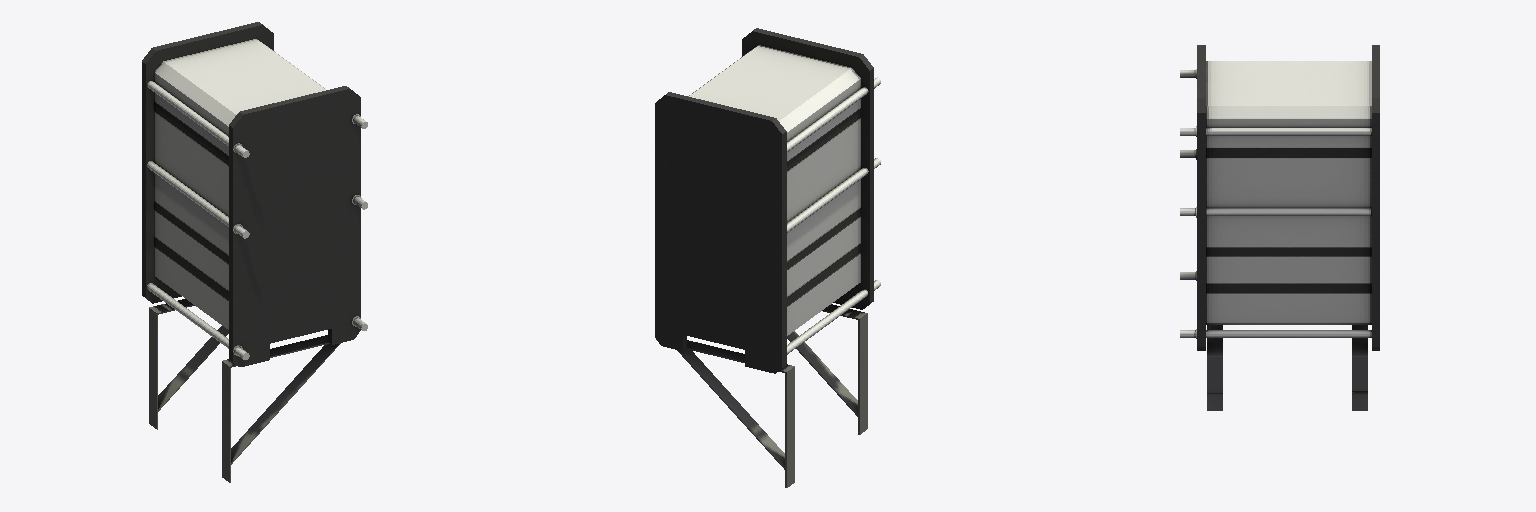
3 renders of one model, left to right at view 1: azimuth 30°, elevation 25°; view 2: azimuth 150°, elevation 25°; view 3: azimuth 270°, elevation 25°, orthographic.
Visible parts, largest first — view 1: Line041; view 2: Line041; view 3: Line041.
Boxes of the visible parts, x1,y1,x2,y2 form: Line041: [142, 22, 367, 482]; Line041: [655, 28, 880, 487]; Line041: [1180, 45, 1379, 410].
Bounding box in the file's own units: 36.87 × 101 × 49.54.
Materials: 1 (1 with a texture image).